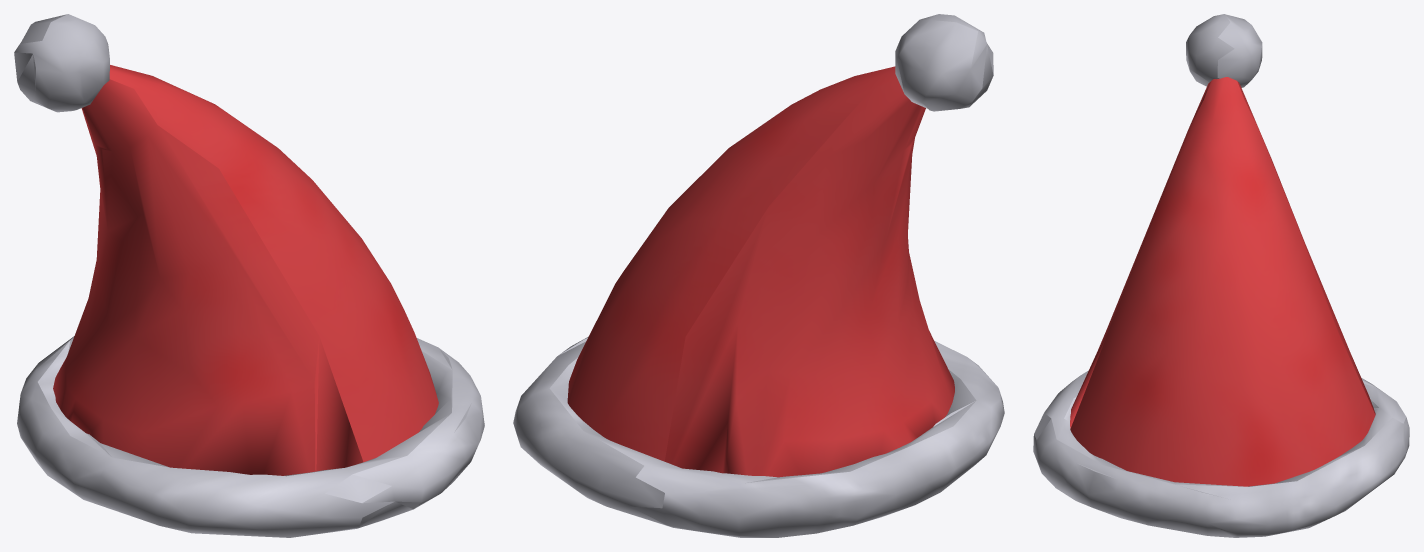
Rendered from SantaHat.obj.
The picture shows the model from 3 angles, left to right: view 1: azimuth 30°, elevation 25°; view 2: azimuth 150°, elevation 25°; view 3: azimuth 270°, elevation 25°; orthographic projection. The views are drawn at different scales.
Visible parts, largest first — view 1: Handle1; view 2: Handle1; view 3: Handle1.
Boxes of the visible parts, box(x1,y1,x2,y2) form: Handle1: box(14, 14, 484, 537); Handle1: box(513, 14, 1004, 537); Handle1: box(1033, 14, 1409, 537).
Bounding box in the file's own units: 1.29 × 1.35 × 1.23.
Materials: 1 (1 with a texture image).
